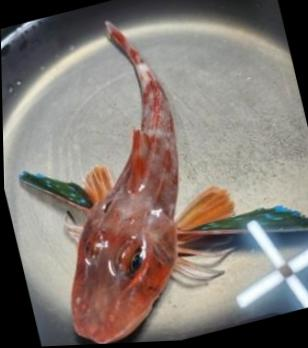fish: (17, 22, 308, 345)
